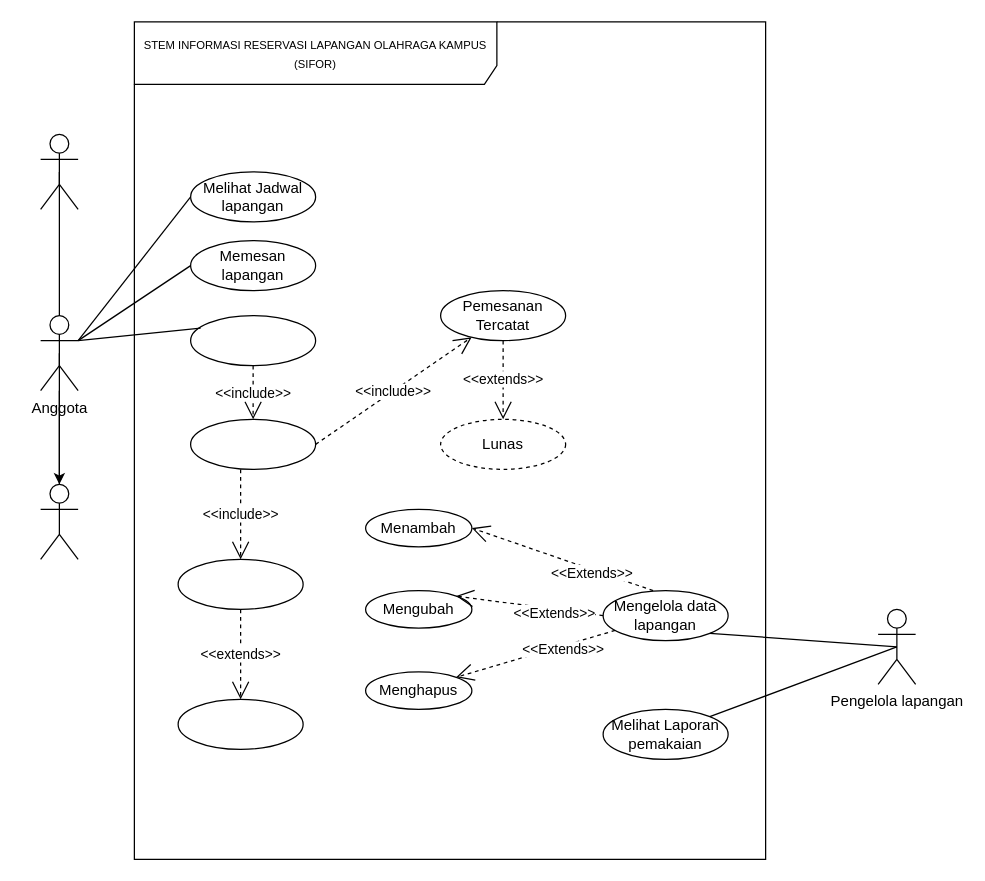
The diagram is 985 pixels wide and 881 high, and some of its shapes have lost their labels. The shapes that lost their labels are listed below. From the top down, each one's centre as x and y in pixels, then its label:
At point 58,171: "Dosen".
At point 252,340: "Pemesanan Disimpan".
At point 252,443: "Menunggu Pembayaran".
At point 58,521: "Mahasiswa".
At point 240,583: "Batalkan Pesanan".
At point 240,723: "Belum Lunas".
